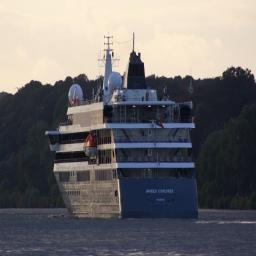cruises: (45, 28, 205, 226)
